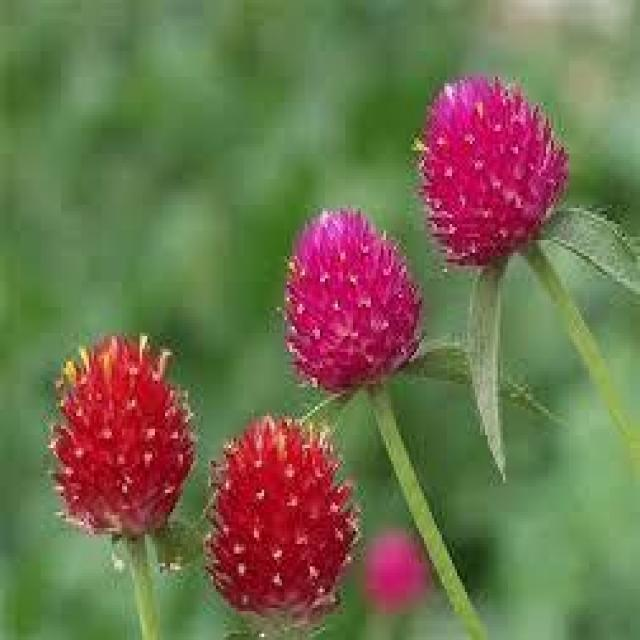organic waste: (180, 405, 374, 638), (35, 314, 216, 538), (269, 194, 432, 408), (412, 59, 572, 267)
